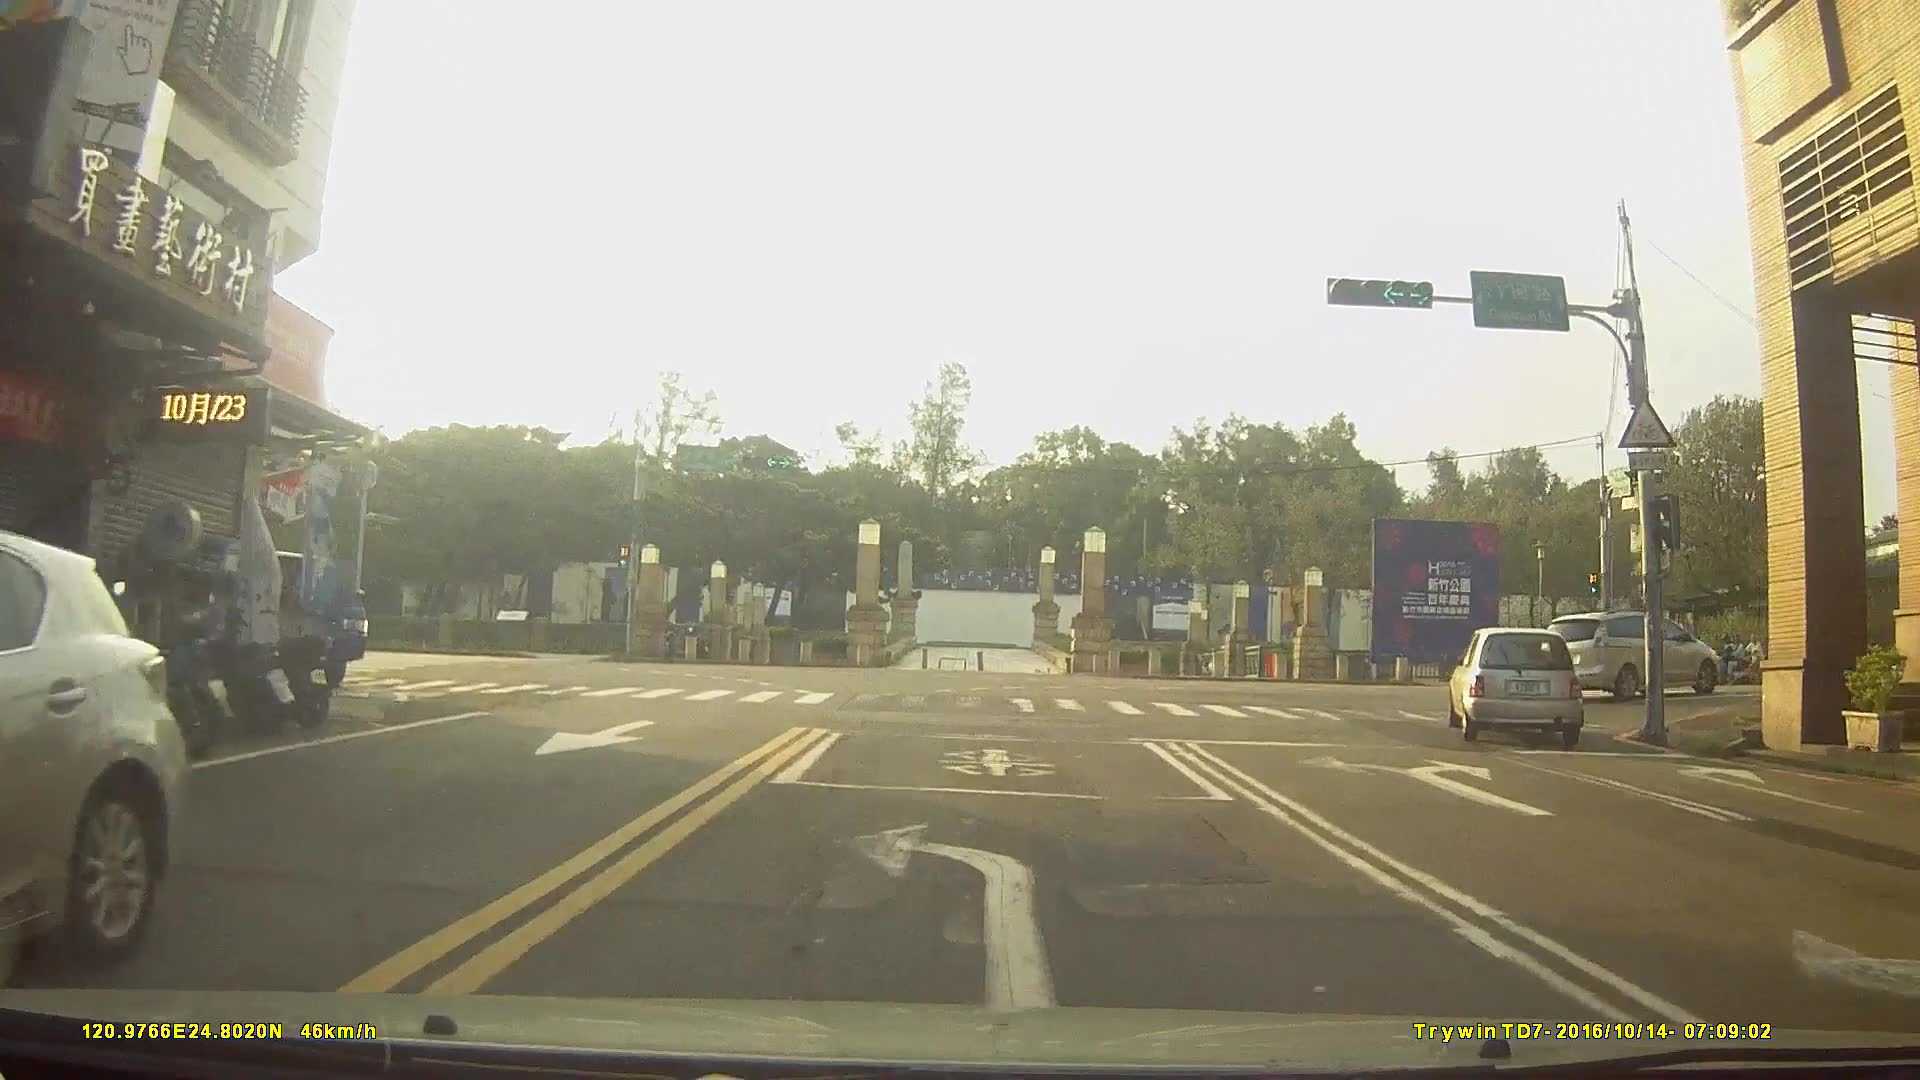vehicle: (0, 527, 186, 968), (1447, 624, 1586, 745), (1545, 608, 1718, 702)
